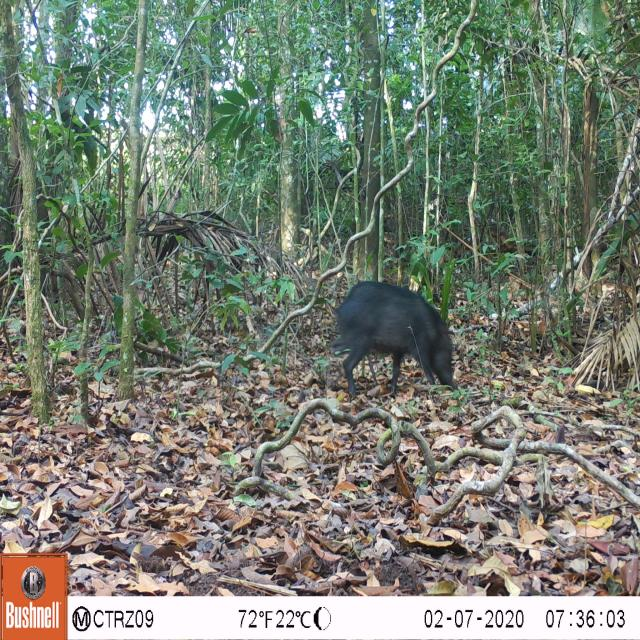Collared Peccary: (323, 279, 467, 405)
